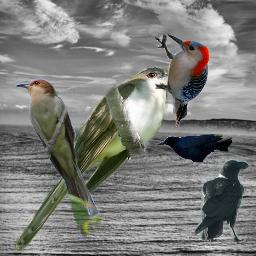Crow: (193, 159, 251, 242), (156, 134, 232, 162)
Cuckoo: (12, 65, 183, 256), (15, 78, 101, 242)
Woodpecker: (155, 34, 209, 127)
